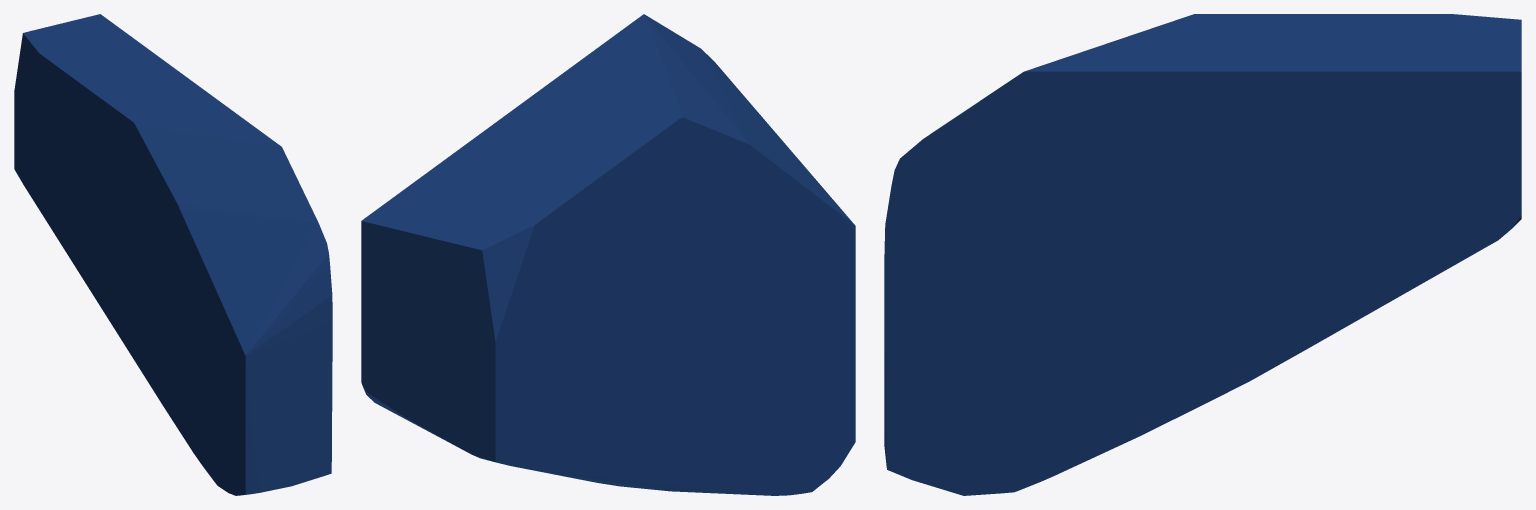
3 views of the same model, side by side, from view 1: azimuth 30°, elevation 25°; view 2: azimuth 150°, elevation 25°; view 3: azimuth 270°, elevation 25° (orthographic). The views are drawn at different scales.
Size of the model in its own units: 0.00859 by 0.0294 by 0.0401.
